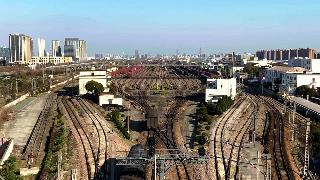train: (119, 145, 148, 180), (147, 109, 158, 128)
